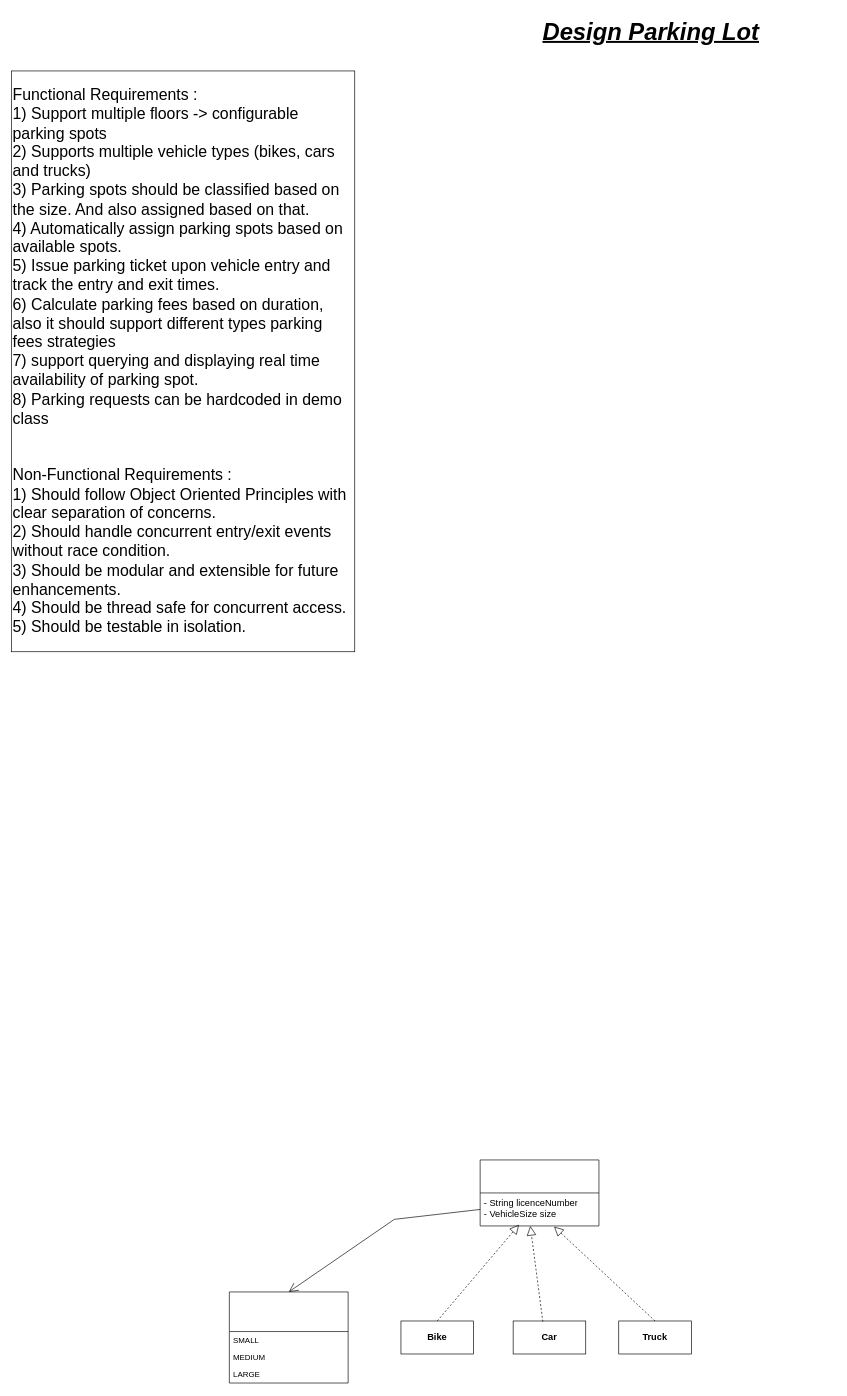
Image size: 847x1396. Some labels were removed from this diagram. Here are the shapes that lost their labels. From the top down, the box of each, then its label:
(479, 1159, 599, 1226): <<Abstract>> Vehicle
(229, 1291, 348, 1383): <<Enumeration>> VehicleSize
